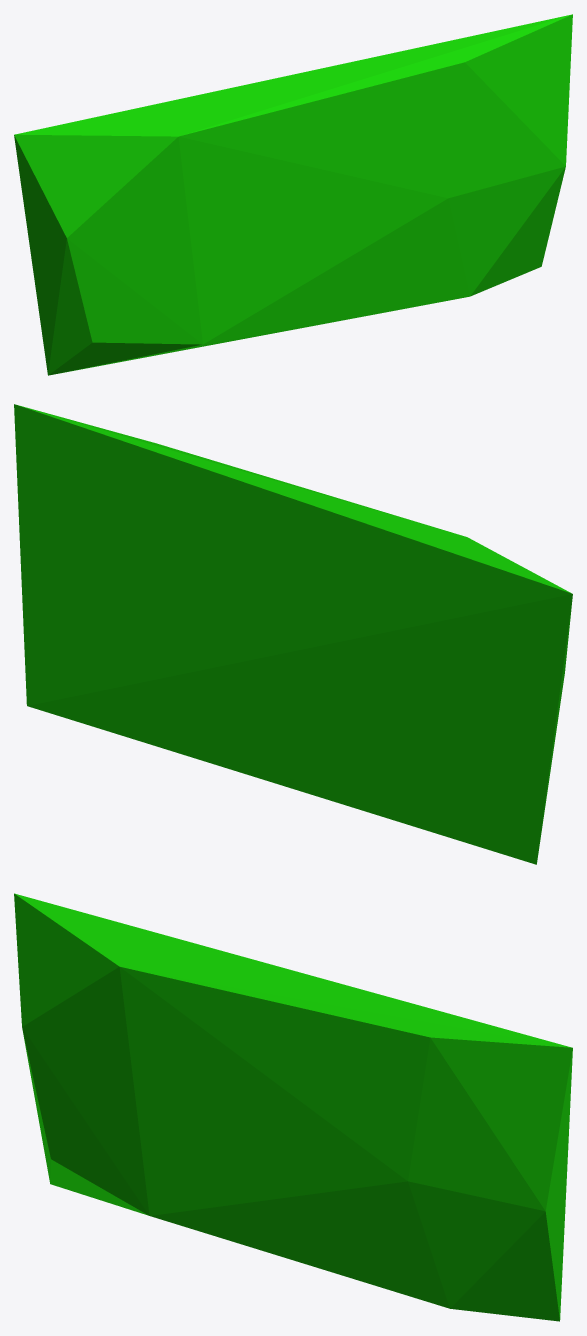
The model's file is arm-L4_convex_piece_013.obj.
3 renders of one model, top to bottom at view 1: azimuth 30°, elevation 25°; view 2: azimuth 150°, elevation 25°; view 3: azimuth 330°, elevation 25°, orthographic. The views are drawn at different scales.
Size of the model in its own units: 0.0629 by 0.0301 by 0.0089.
